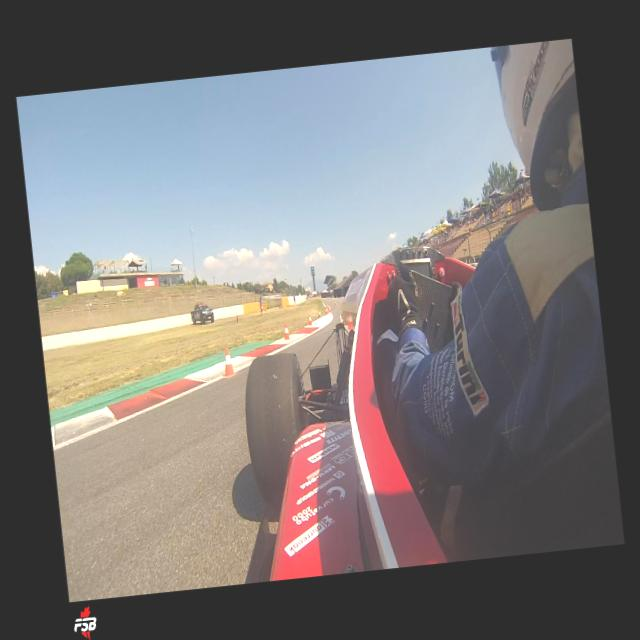orange_cone: (220, 346, 237, 376), (283, 323, 289, 339), (308, 314, 312, 324), (324, 307, 328, 314), (328, 306, 331, 312), (318, 309, 320, 317)
